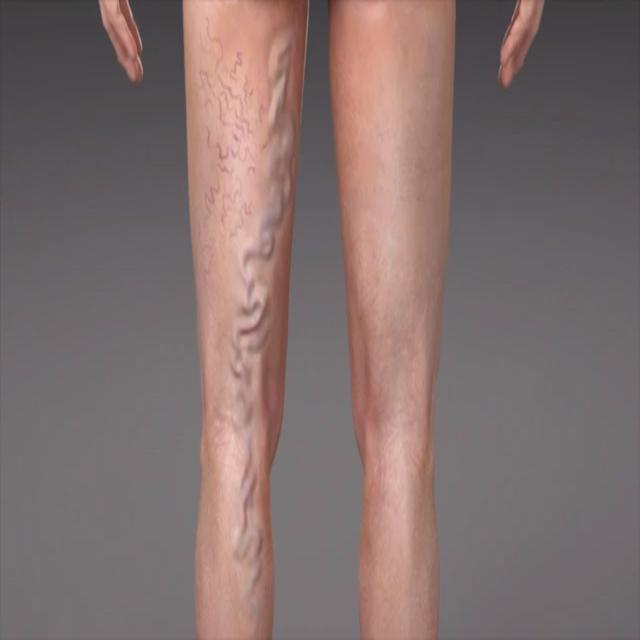Varicose: (158, 16, 394, 594)
